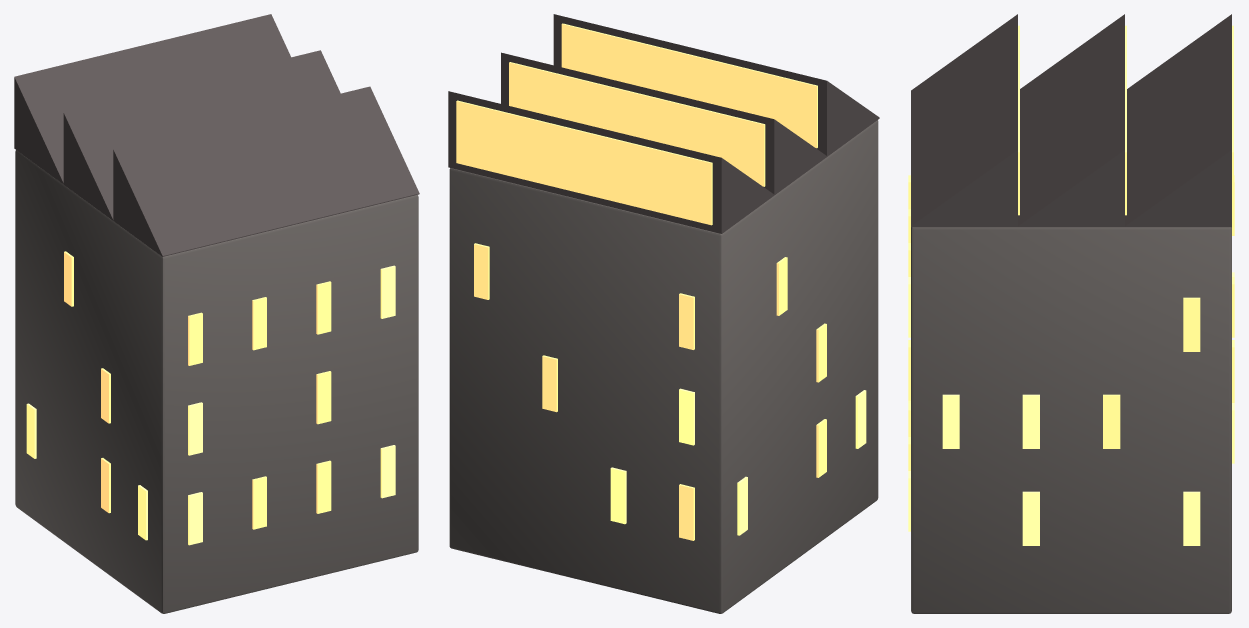
File: SM_Area2_City_A.glb
3 views of the same model, side by side, from view 1: azimuth 30°, elevation 25°; view 2: azimuth 150°, elevation 25°; view 3: azimuth 270°, elevation 25° (orthographic). The views are drawn at different scales.
Parts seen in each view (by area): view 1: SM_Area2_City_A; view 2: SM_Area2_City_A; view 3: SM_Area2_City_A.
Part boxes in pixels (<box>): SM_Area2_City_A: <box>14,14,419,613</box>; SM_Area2_City_A: <box>448,14,879,613</box>; SM_Area2_City_A: <box>908,14,1234,613</box>.
Bounding box in the file's own units: 6.1 × 9.6 × 6.1.
